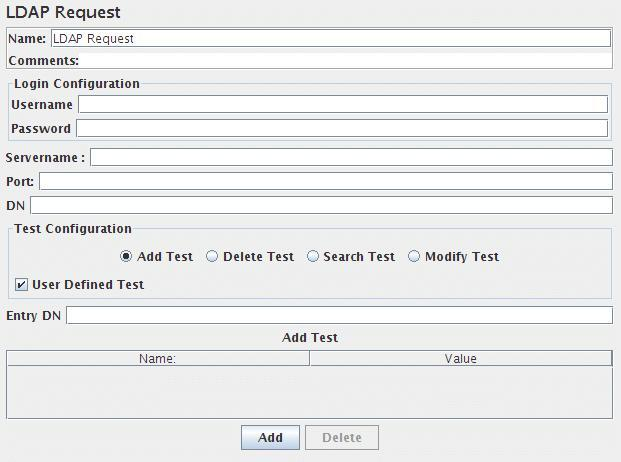button: (307, 427, 380, 451), (242, 426, 301, 451)
checkbox: (15, 278, 29, 293)
input: (67, 307, 615, 327), (53, 31, 612, 49), (79, 96, 608, 115), (79, 52, 614, 70), (92, 148, 614, 166), (30, 198, 614, 214), (40, 174, 614, 190), (77, 122, 608, 138)
label: (5, 4, 128, 23), (17, 220, 135, 237), (14, 79, 144, 93), (33, 277, 150, 292), (424, 248, 505, 269), (5, 150, 88, 167), (137, 248, 199, 269), (223, 249, 299, 266), (324, 250, 400, 267), (10, 55, 80, 69), (279, 333, 344, 348), (10, 99, 78, 112), (6, 310, 63, 325), (12, 124, 74, 136), (9, 34, 49, 49), (5, 176, 37, 189), (6, 199, 29, 215)
radio: (202, 248, 223, 267), (303, 248, 323, 266), (119, 247, 135, 266), (405, 249, 424, 265)
